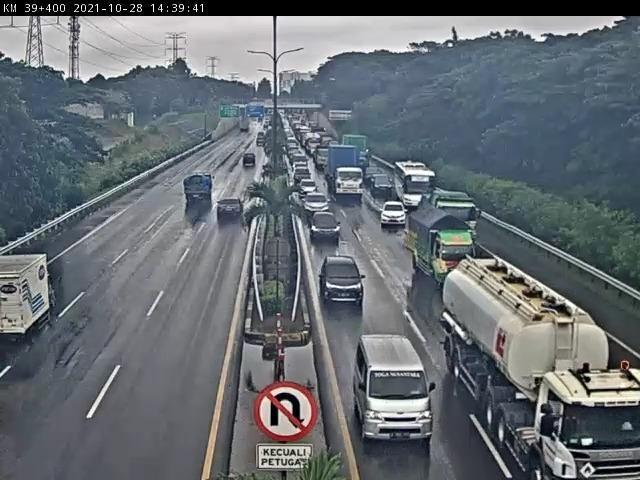bus: (396, 161, 436, 210)
car: (352, 334, 435, 442), (319, 255, 368, 304), (215, 199, 248, 224), (310, 210, 341, 236), (382, 197, 409, 223), (303, 190, 328, 212), (368, 172, 391, 194), (298, 178, 321, 198), (243, 153, 260, 169)
truck: (441, 256, 640, 480), (1, 252, 61, 344), (400, 201, 464, 277), (423, 189, 477, 245), (326, 141, 362, 195), (183, 174, 216, 205)
